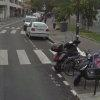Motorcycle: (46, 35, 100, 100)
